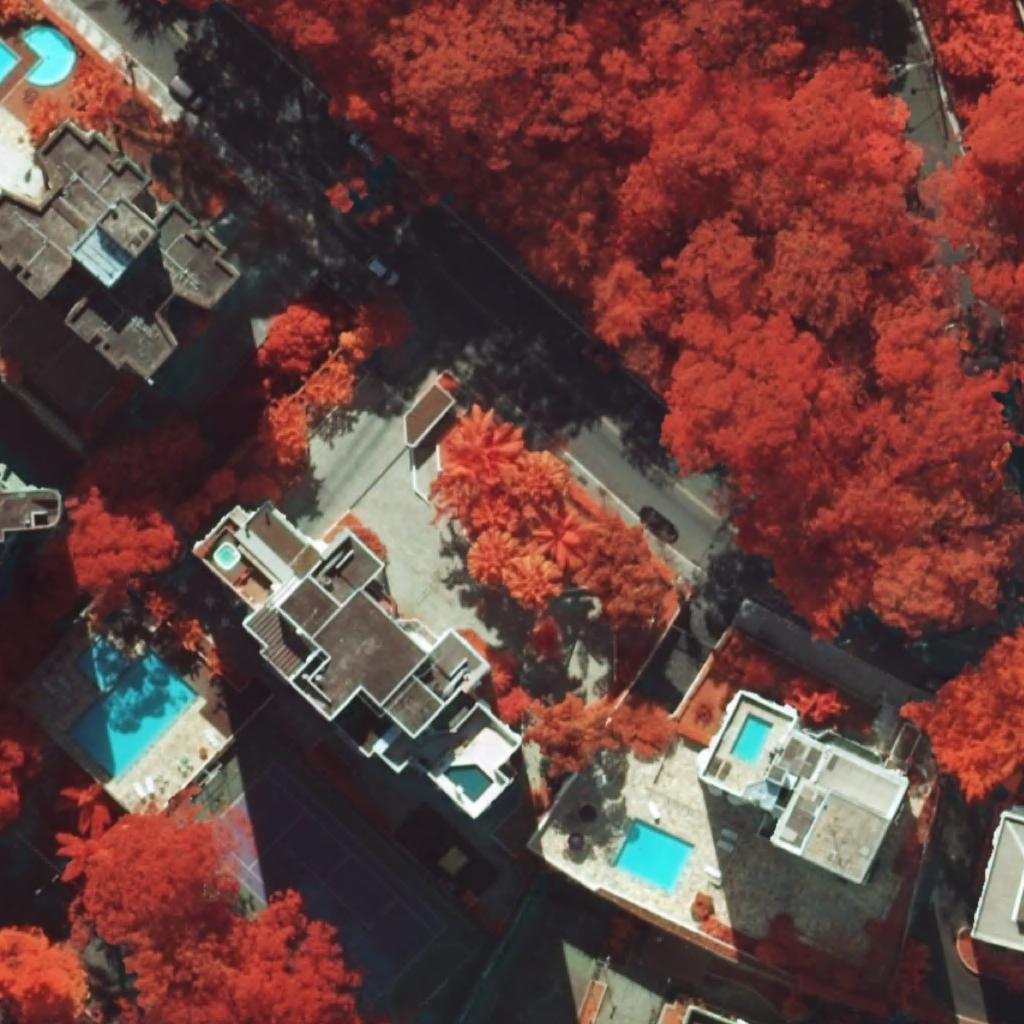pool: (65, 637, 199, 781), (612, 818, 695, 893), (22, 26, 74, 82), (729, 713, 773, 765), (443, 764, 494, 803), (216, 545, 238, 566)
